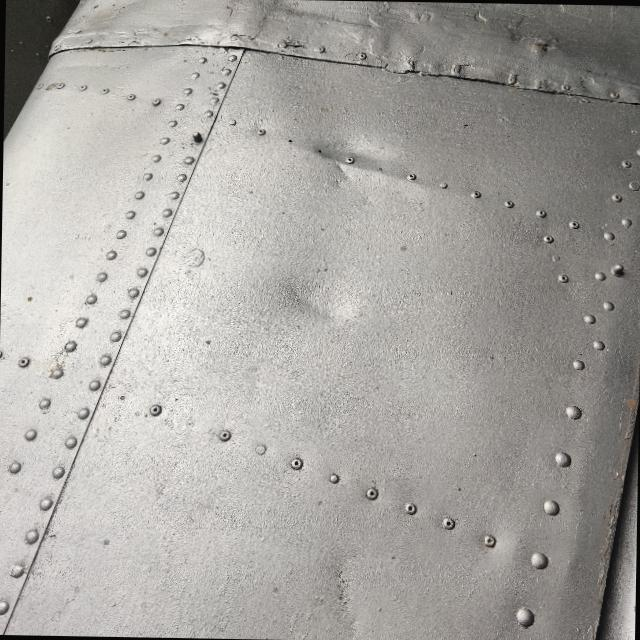dent: (244, 236, 378, 360), (301, 98, 427, 213)
